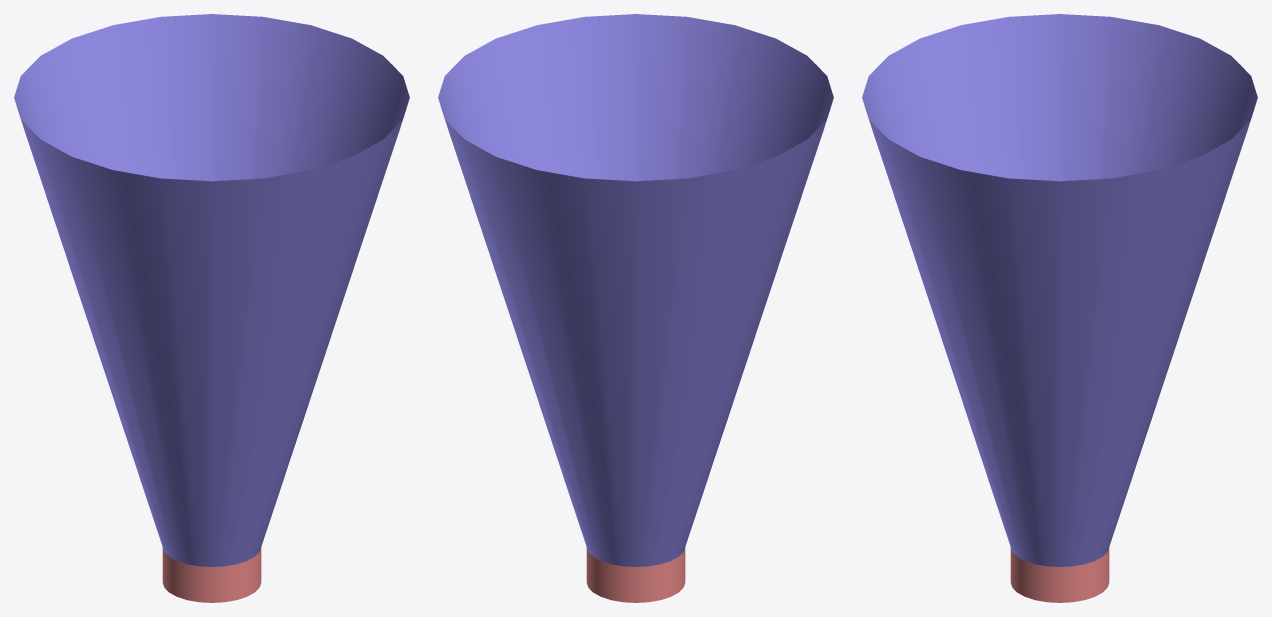
Rendered from Light_QianDeng1_1X1_on.FBX.
3 renders of one model, left to right at view 1: azimuth 30°, elevation 25°; view 2: azimuth 150°, elevation 25°; view 3: azimuth 270°, elevation 25°, orthographic.
Parts seen in each view (by area): view 1: Box001; view 2: Box001; view 3: Box001.
Boxes of the visible parts, left/top/right/bottom form: Box001: left=14, top=14, right=409, bottom=602; Box001: left=438, top=14, right=833, bottom=602; Box001: left=862, top=14, right=1257, bottom=602.
Bounding box in the file's own units: 4 × 5.4 × 4.
